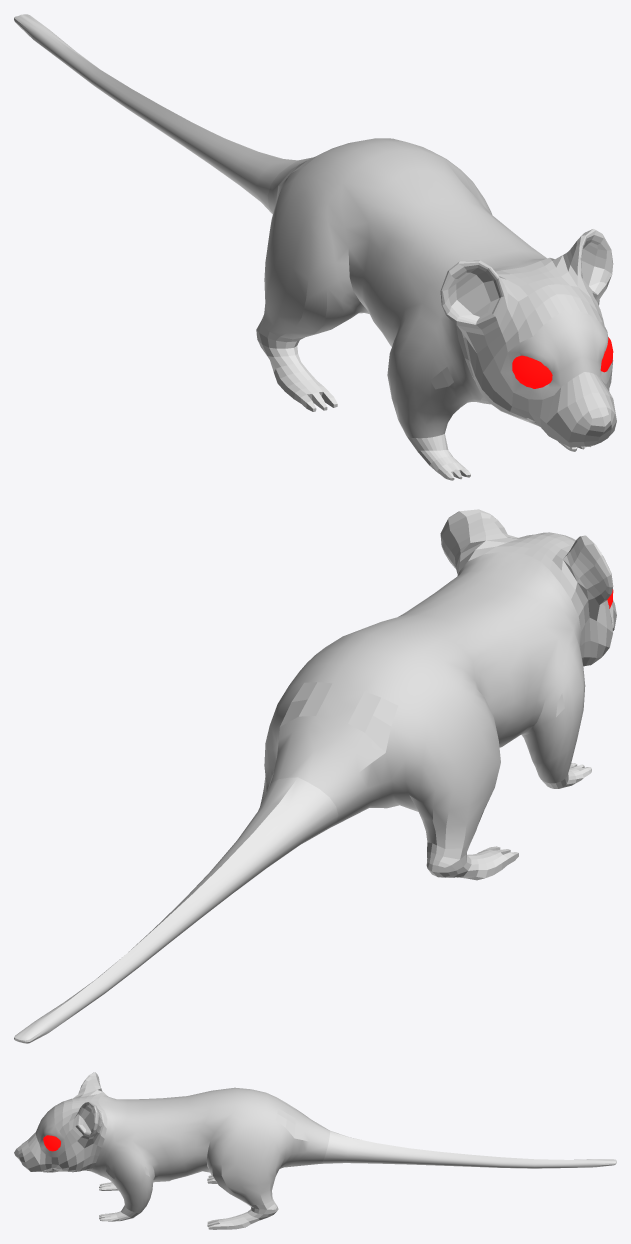
The model's file is Rat.fbx.
3 views of the same model, one above another, from view 1: azimuth 30°, elevation 25°; view 2: azimuth 150°, elevation 25°; view 3: azimuth 270°, elevation 25° (orthographic). The views are drawn at different scales.
Parts seen in each view (by area): view 1: Rat_Body, Rat_Eyes; view 2: Rat_Body; view 3: Rat_Body.
Boxes of the visible parts, box(x1,y1,x2,y2) form: Rat_Body: box(14, 14, 616, 480); Rat_Eyes: box(512, 337, 613, 388); Rat_Body: box(14, 509, 616, 1043); Rat_Body: box(14, 1072, 616, 1229).
Bounding box in the file's own units: 0.6639 × 0.6848 × 3.23.
